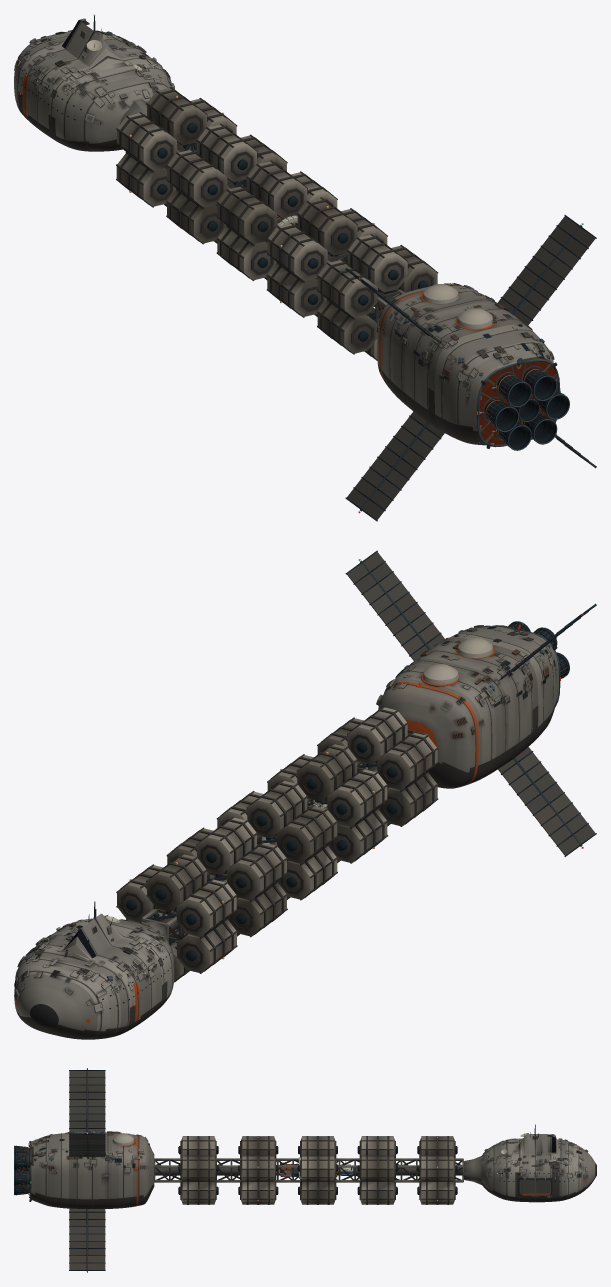
Rendered from fleet.glb.
3 views of the same model, one above another, from view 1: azimuth 30°, elevation 25°; view 2: azimuth 150°, elevation 25°; view 3: azimuth 270°, elevation 25° (orthographic). The views are drawn at different scales.
Visible parts, largest first — view 1: ironwake; view 2: ironwake; view 3: ironwake.
Part boxes in pixels (left/top/right/bottom): ironwake: left=14, top=14, right=596, bottom=521; ironwake: left=14, top=550, right=596, bottom=1039; ironwake: left=14, top=1068, right=596, bottom=1272.
Size of the model in its own units: 299 by 299 by 1133.
